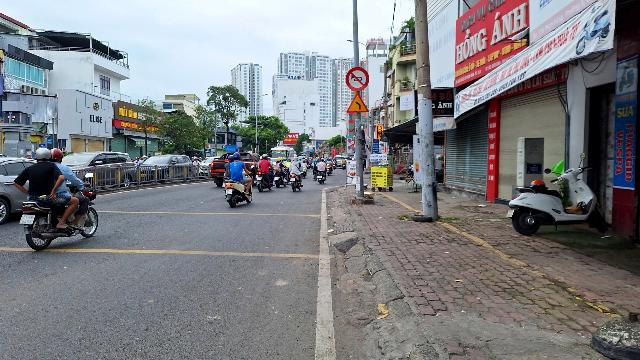cam-bop-coi: (346, 66, 369, 91)
cho-ngoat-nguy-hiem-ben-trai: (346, 92, 369, 112)
